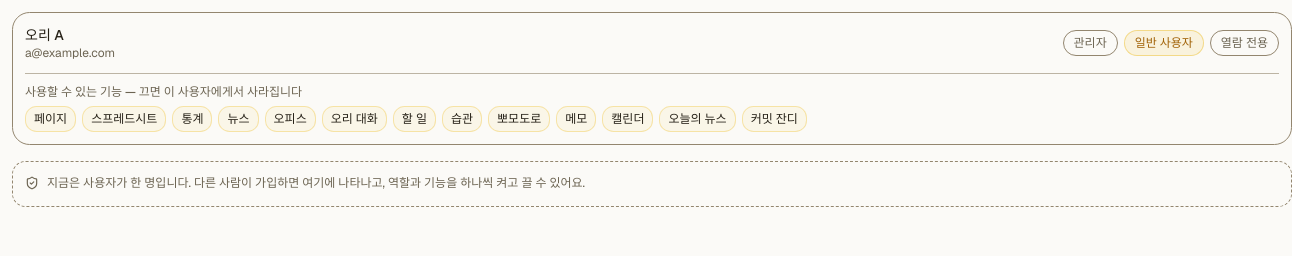
Scenario: AdminUserPanel — 관리자 › 역할 변경 실패(빈 메시지)는 fallback 문구를 보여준다
The image size is (1292, 256).
Click the button "관리자" at (1090, 43), box [1063,30,1118,56]
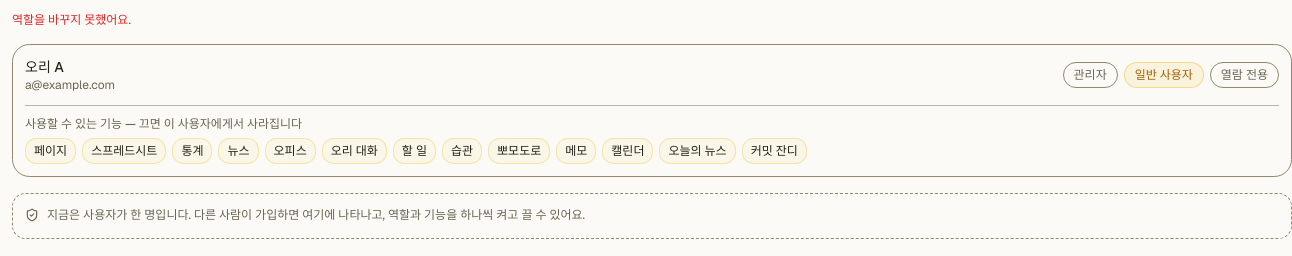
Expected: the text "역할을 바꾸지 못했어요." is shown, [12,12,131,28]
